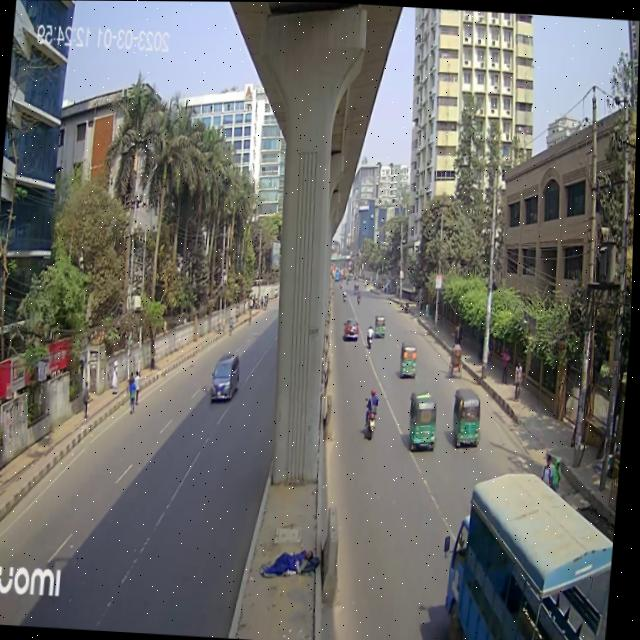cng: (454, 381, 491, 453), (410, 389, 442, 453), (400, 340, 422, 383), (375, 312, 390, 341)
rikshaw: (448, 339, 466, 385)
